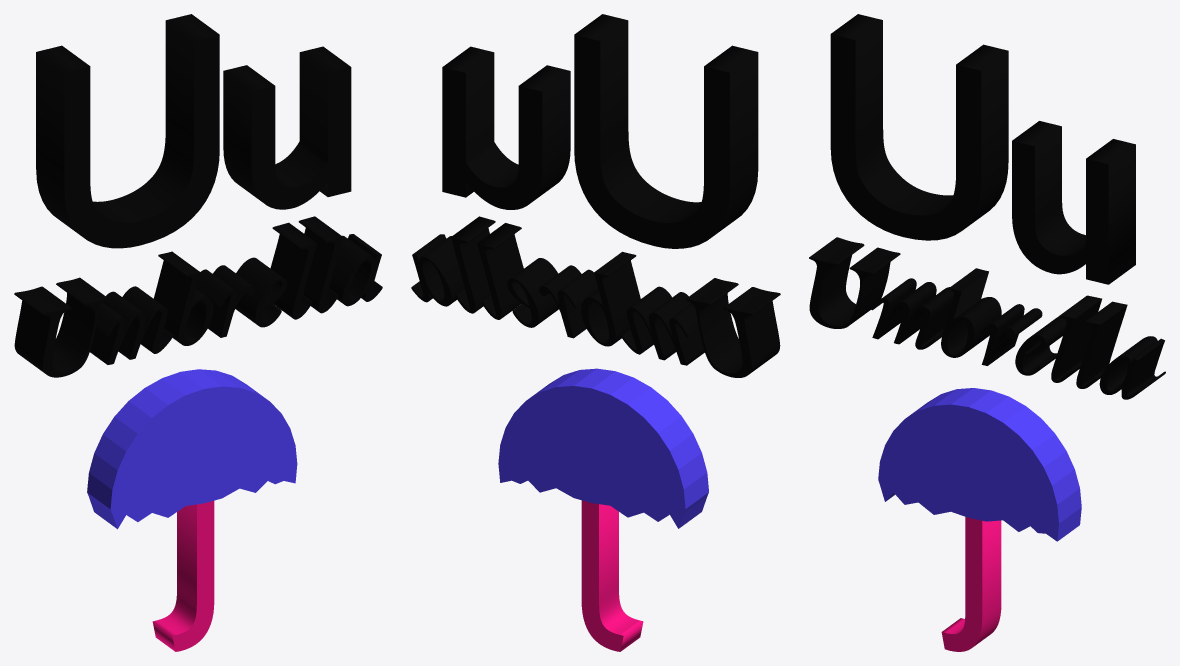
The model's file is Letter_U.glb.
3 renders of one model, left to right at view 1: azimuth 30°, elevation 25°; view 2: azimuth 150°, elevation 25°; view 3: azimuth 330°, elevation 25°, orthographic. The views are drawn at different scales.
Parts seen in each view (by area): view 1: Text, Text.002, Cylinder, Text.001; view 2: Text, Text.002, Cylinder, Text.001; view 3: Text, Text.002, Cylinder, Text.001.
Part boxes in pixels (x1,y1,x2,y2): Text: (36, 14, 351, 248); Text.002: (14, 216, 382, 377); Cylinder: (87, 369, 297, 529); Text.001: (152, 501, 214, 651); Text: (442, 14, 758, 248); Text.002: (411, 216, 780, 377); Cylinder: (498, 368, 708, 528); Text.001: (581, 500, 643, 651); Text: (830, 14, 1135, 284); Text.002: (809, 237, 1165, 399); Cylinder: (878, 388, 1081, 541); Text.001: (941, 517, 1001, 651).
Bounding box in the file's own units: 0.836 × 1.43 × 0.1209.
